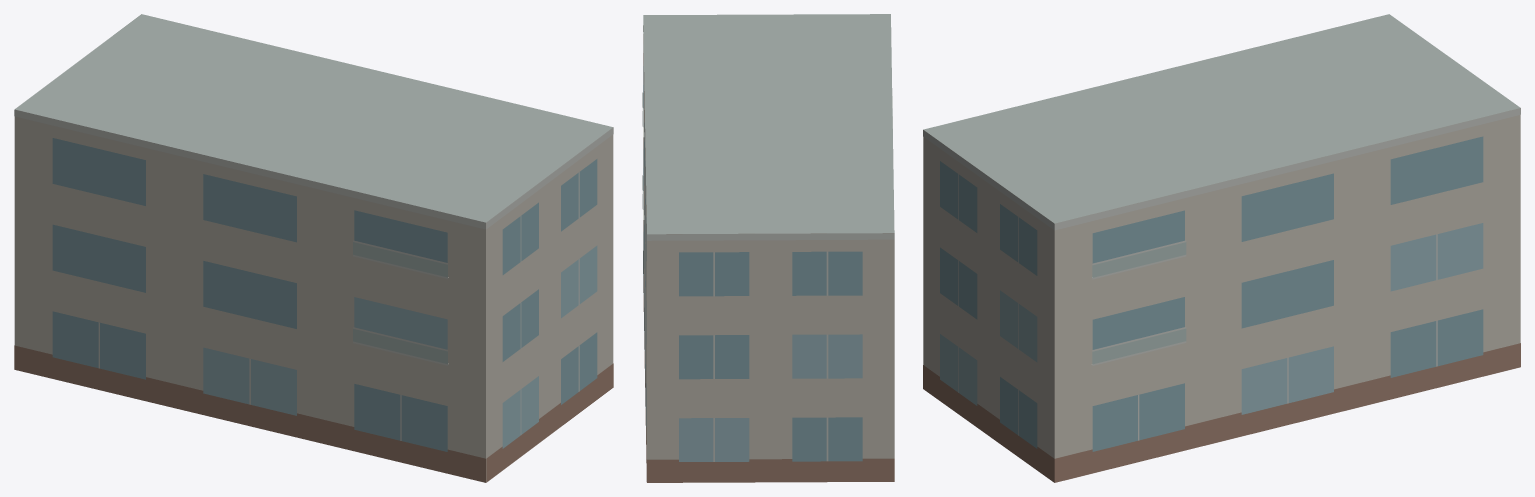
File: survey-upis-32705844.glb
The picture shows the model from 3 angles, left to right: view 1: azimuth 30°, elevation 25°; view 2: azimuth 150°, elevation 25°; view 3: azimuth 270°, elevation 25°; orthographic projection. The views are drawn at different scales.
Parts seen in each view (by area): view 1: survey-upis-32705844.tmp; view 2: survey-upis-32705844.tmp; view 3: survey-upis-32705844.tmp.
Part boxes in pixels (bbox=[...]): survey-upis-32705844.tmp: bbox=[14, 14, 613, 482]; survey-upis-32705844.tmp: bbox=[642, 14, 894, 482]; survey-upis-32705844.tmp: bbox=[923, 14, 1520, 482].
Bounding box in the file's own units: 15.87 × 9.15 × 19.12.
